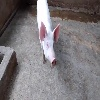heo: (35, 18, 65, 67)
